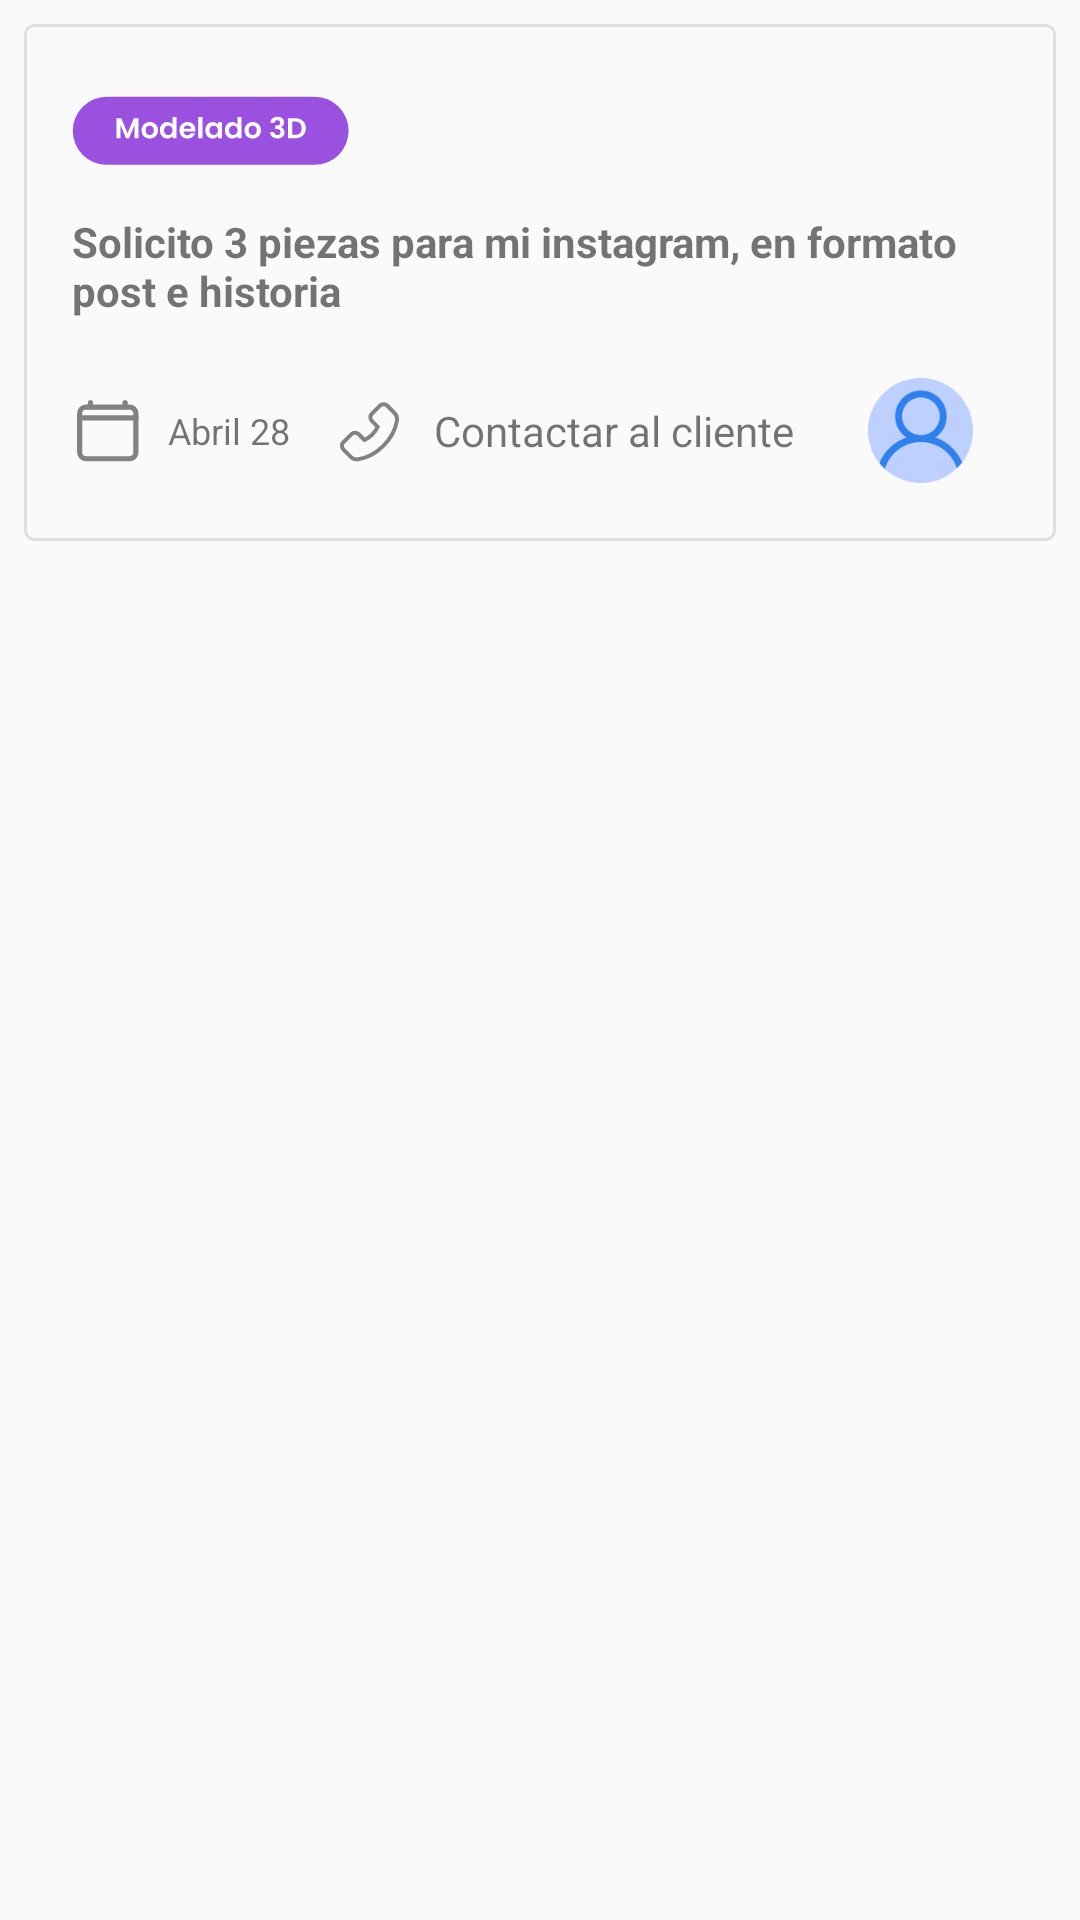

Named icons in this screenshot (1080*1920) and their centers, [x,y]:
calendar clear: [108,431]
phone: [369,432]
